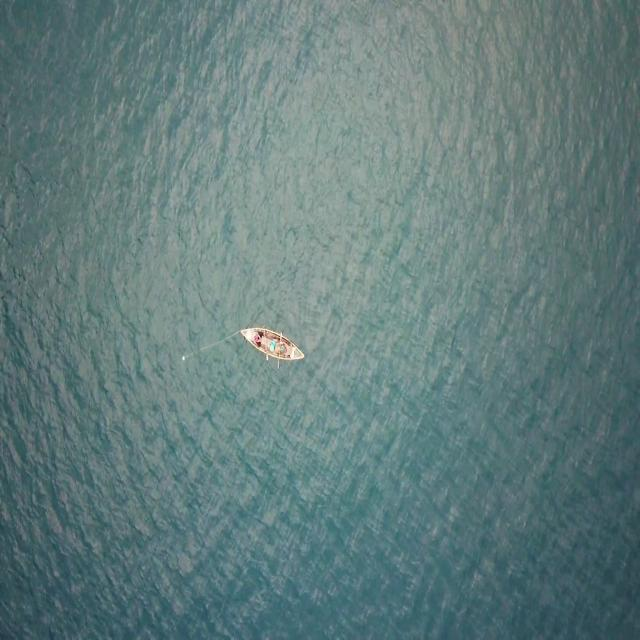ship: (235, 316, 307, 366)
